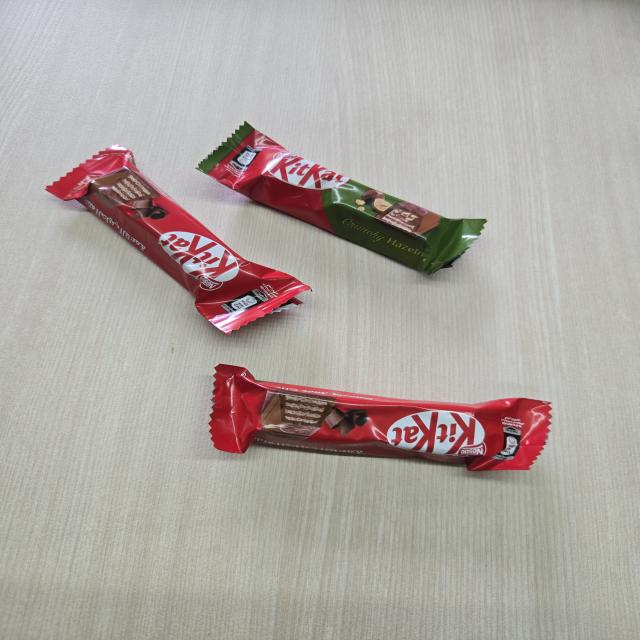chocolate-bar: (34, 133, 319, 339), (193, 114, 494, 280), (203, 357, 554, 479)
